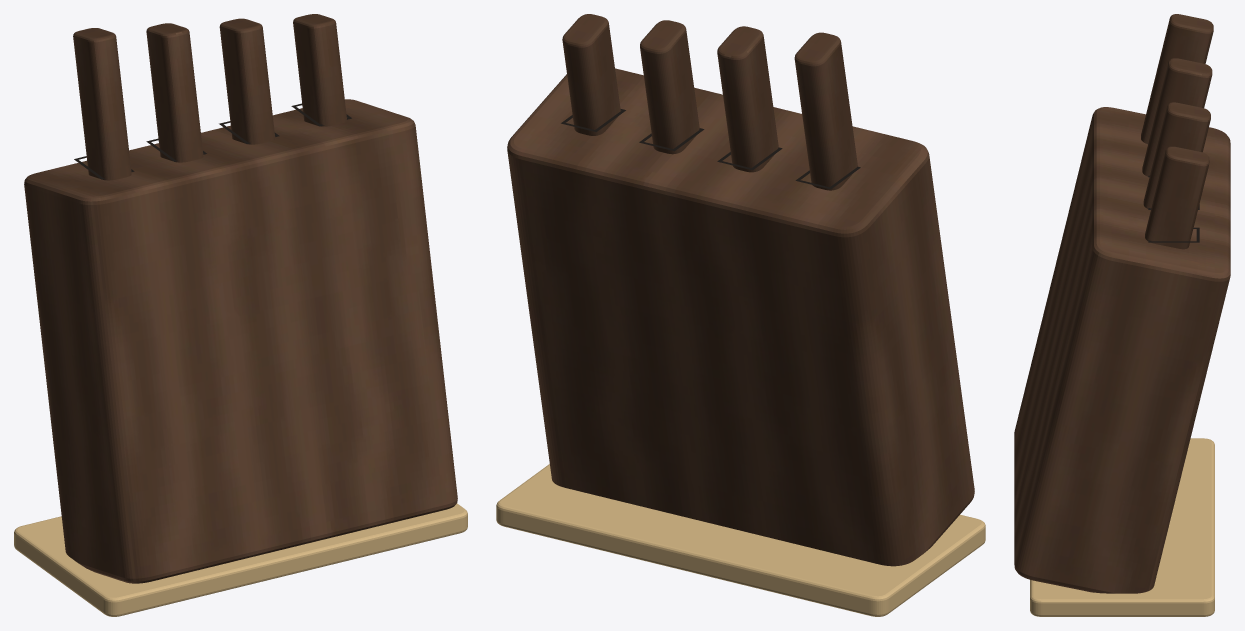
File: curated-knife-block.glb
3 renders of one model, left to right at view 1: azimuth 30°, elevation 25°; view 2: azimuth 150°, elevation 25°; view 3: azimuth 270°, elevation 25°, orthographic. The views are drawn at different scales.
Parts seen in each view (by area): view 1: KnifeBlock_SolidAshBody, KnifeBlock_BrassBasePlate, ChefKnife_1_AshHandle, ChefKnife_2_AshHandle, ChefKnife_3_AshHandle, ChefKnife_4_AshHandle; view 2: KnifeBlock_SolidAshBody, KnifeBlock_BrassBasePlate, ChefKnife_1_AshHandle, ChefKnife_2_AshHandle, ChefKnife_3_AshHandle, ChefKnife_4_AshHandle; view 3: KnifeBlock_SolidAshBody, KnifeBlock_BrassBasePlate, ChefKnife_4_AshHandle, ChefKnife_1_AshHandle, ChefKnife_2_AshHandle, ChefKnife_3_AshHandle.
Boxes of the visible parts, <box> form: KnifeBlock_SolidAshBody: <box>24,99,457,583</box>; KnifeBlock_BrassBasePlate: <box>14,503,467,616</box>; ChefKnife_1_AshHandle: <box>73,28,131,180</box>; ChefKnife_2_AshHandle: <box>146,23,203,162</box>; ChefKnife_3_AshHandle: <box>219,18,275,144</box>; ChefKnife_4_AshHandle: <box>293,14,347,126</box>; KnifeBlock_SolidAshBody: <box>507,68,974,566</box>; KnifeBlock_BrassBasePlate: <box>496,464,985,616</box>; ChefKnife_1_AshHandle: <box>794,32,857,190</box>; ChefKnife_2_AshHandle: <box>717,26,778,172</box>; ChefKnife_3_AshHandle: <box>640,20,699,154</box>; ChefKnife_4_AshHandle: <box>562,14,620,135</box>; KnifeBlock_SolidAshBody: <box>1014,107,1230,593</box>; KnifeBlock_BrassBasePlate: <box>1030,438,1214,616</box>; ChefKnife_4_AshHandle: <box>1145,146,1209,249</box>; ChefKnife_1_AshHandle: <box>1141,14,1213,144</box>; ChefKnife_2_AshHandle: <box>1142,58,1212,176</box>; ChefKnife_3_AshHandle: <box>1143,102,1210,208</box>.
Size of the model in its own units: 0.24 by 0.3219 by 0.1343.
4 materials, 1 textured.
